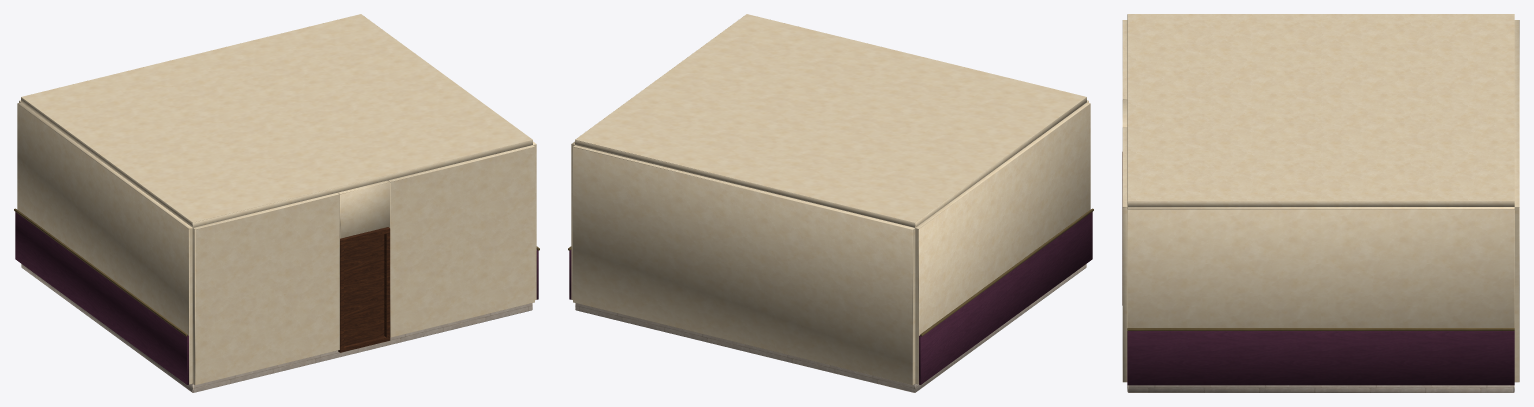
File: explore3d__electrical_room.glb
3 views of the same model, side by side, from view 1: azimuth 30°, elevation 25°; view 2: azimuth 150°, elevation 25°; view 3: azimuth 270°, elevation 25° (orthographic). The views are drawn at different scales.
Visible parts, largest first — view 1: Rebuilt_electrical_room; view 2: Rebuilt_electrical_room; view 3: Rebuilt_electrical_room.
Boxes of the visible parts, x1,y1,x2,y2 form: Rebuilt_electrical_room: [14, 14, 539, 392]; Rebuilt_electrical_room: [568, 14, 1093, 392]; Rebuilt_electrical_room: [1122, 14, 1519, 392].
Size of the model in its own units: 8.32 by 3.84 by 7.18.
Materials: 14 (13 with a texture image).
